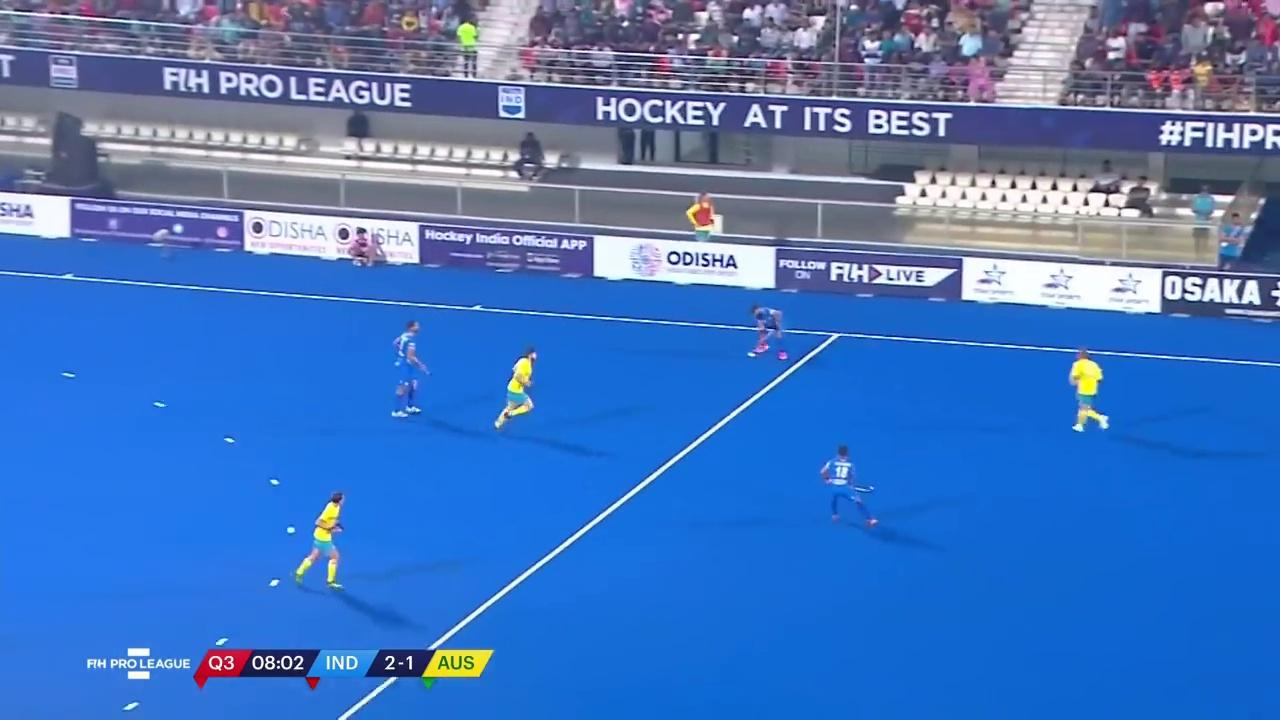ball: (745, 349, 756, 359)
